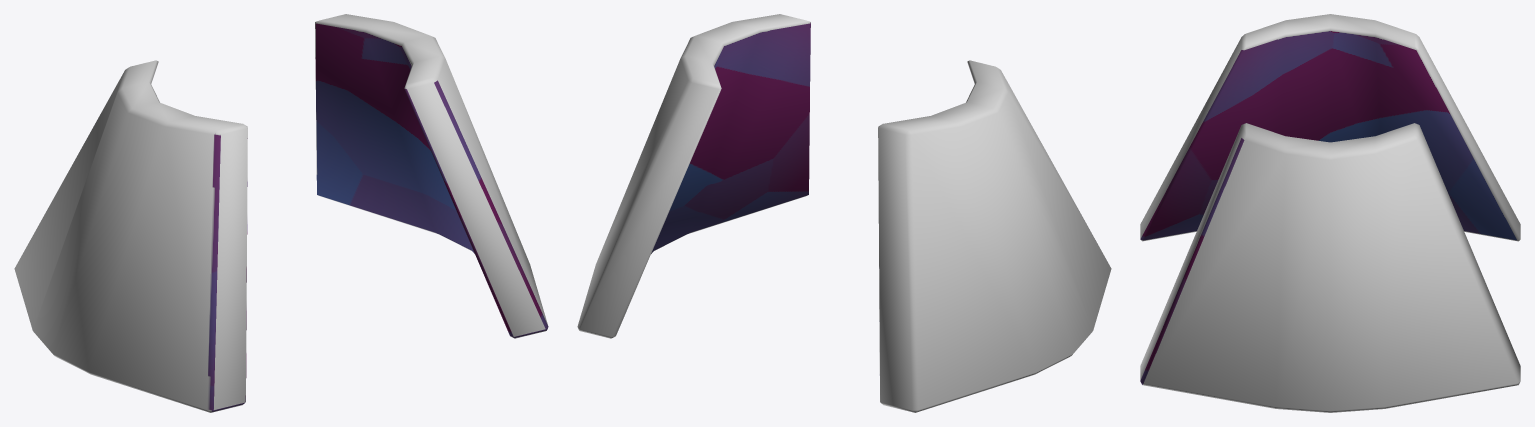
Rendered from soporte.fbx.
3 views of the same model, side by side, from view 1: azimuth 30°, elevation 25°; view 2: azimuth 150°, elevation 25°; view 3: azimuth 270°, elevation 25° (orthographic). The views are drawn at different scales.
Visible parts, largest first — view 1: Soporte_consola; view 2: Soporte_consola; view 3: Soporte_consola.
Part boxes in pixels (bbox=[...]): Soporte_consola: bbox=[14, 14, 548, 412]; Soporte_consola: bbox=[577, 14, 1111, 412]; Soporte_consola: bbox=[1140, 14, 1520, 412].
Bounding box in the file's own units: 28.98 × 13.82 × 21.53.
2 materials, 2 textured.
